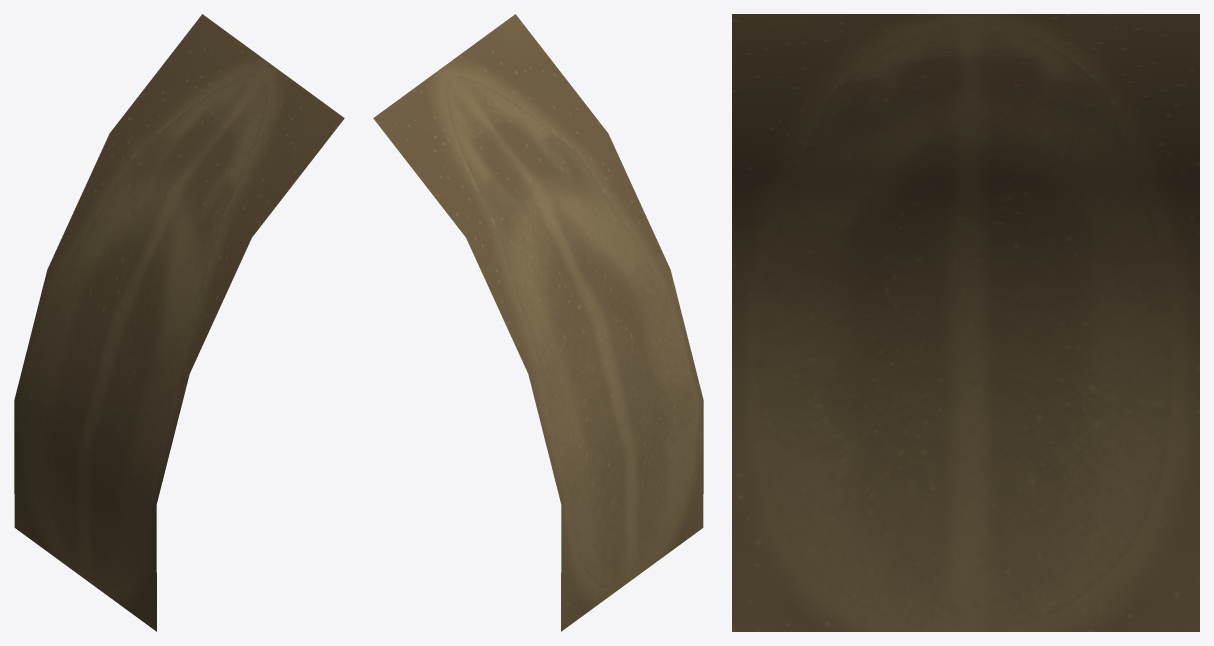
Rendered from SM_Plant_5.fbx.
3 renders of one model, left to right at view 1: azimuth 30°, elevation 25°; view 2: azimuth 150°, elevation 25°; view 3: azimuth 270°, elevation 25°, orthographic. The views are drawn at different scales.
Parts seen in each view (by area): view 1: SM_Plant_5_LOD0; view 2: SM_Plant_5_LOD0; view 3: SM_Plant_5_LOD0.
Boxes of the visible parts, bbox=[...] form: SM_Plant_5_LOD0: bbox=[14, 14, 344, 631]; SM_Plant_5_LOD0: bbox=[373, 14, 703, 631]; SM_Plant_5_LOD0: bbox=[732, 14, 1199, 631].
Size of the model in its own units: 14.26 by 18.69 by 33.88.
1 material, 1 textured.
